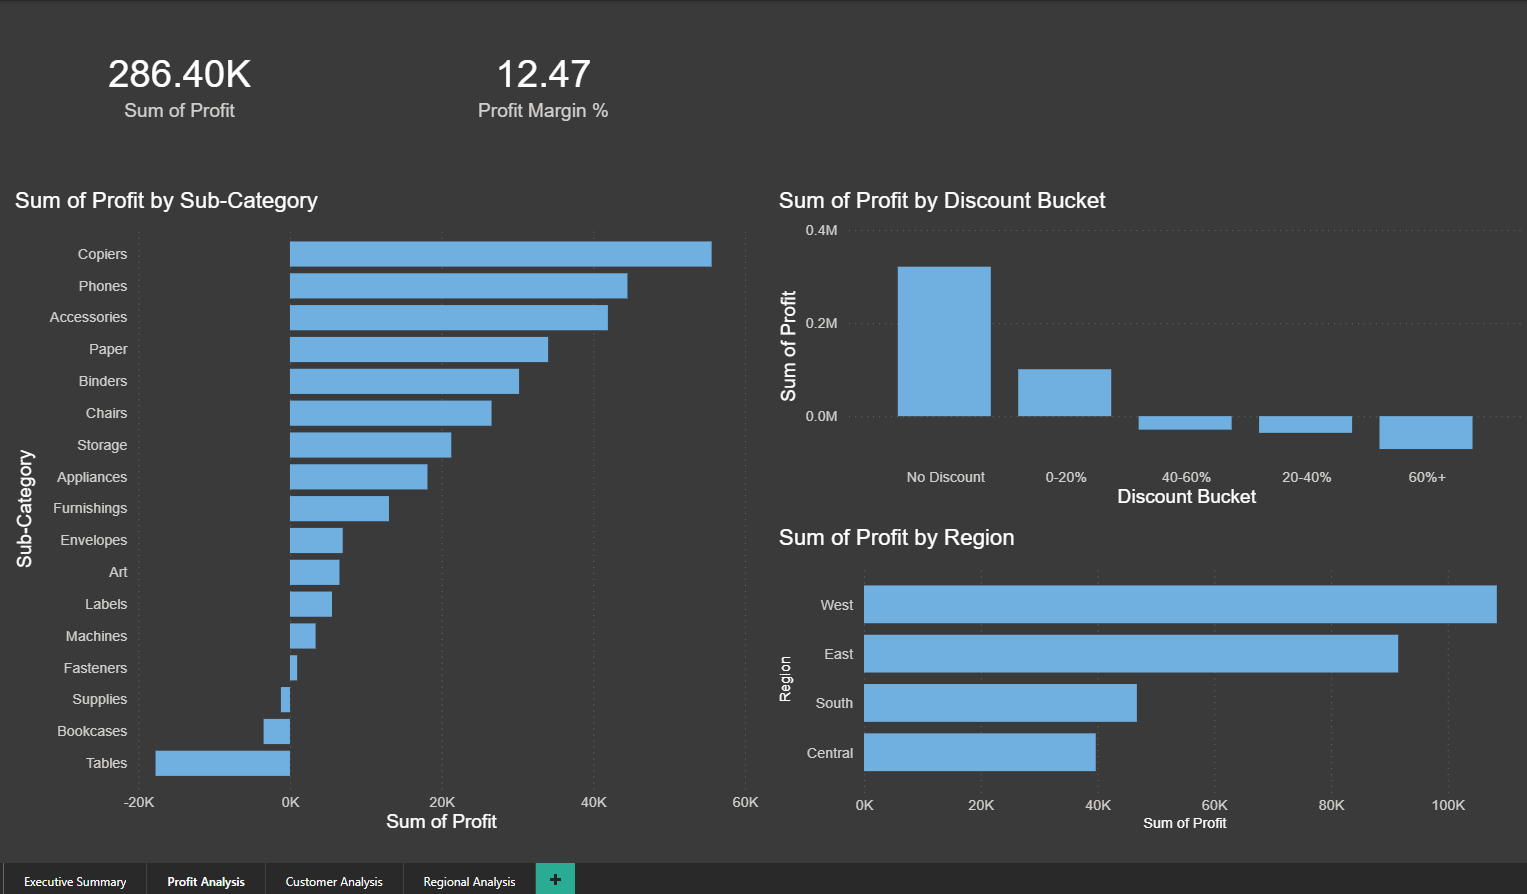

Layout of this report page (visuals, bound fields, positions):
{"tool":"powerbi","page":{"name":"Profit Analysis","canvas":[1280,720],"ordinal":1},"visuals":[{"type":"clusteredBarChart","fields":{"Category":["superstore_clean.Sub-Category"],"Y":["Sum(superstore_clean.Profit)"]},"box":[9,156,631,564],"z":0},{"type":"clusteredColumnChart","fields":{"Category":["superstore_clean.Discount Bucket"],"Y":["Sum(superstore_clean.Profit)"]},"box":[647,156,633,282],"z":1000},{"type":"clusteredBarChart","fields":{"Category":["superstore_clean.Region"],"Y":["Sum(superstore_clean.Profit)"]},"box":[647,438,633,282],"z":2000},{"type":"card","fields":{"Values":["Sum(superstore_clean.Profit)"]},"box":[9,0,285,137],"z":3000},{"type":"card","fields":{"Values":["superstore_clean.Profit Margin %"]},"box":[286,0,340,137],"z":4000}]}

Visuals, with their boxes on the page's 1280x720 design canvas (x1, y1, x2, y2). These are canvas units, not pixel positions in the 1527x894 screenshot, which may show the page scaled, cropped or inside an application window:
clusteredBarChart - superstore_clean.Sub-Category x Sum(superstore_clean.Profit): x1=9, y1=156, x2=640, y2=720
clusteredColumnChart - superstore_clean.Discount Bucket x Sum(superstore_clean.Profit): x1=647, y1=156, x2=1280, y2=438
clusteredBarChart - superstore_clean.Region x Sum(superstore_clean.Profit): x1=647, y1=438, x2=1280, y2=720
card - Sum(superstore_clean.Profit): x1=9, y1=0, x2=294, y2=137
card - superstore_clean.Profit Margin %: x1=286, y1=0, x2=626, y2=137
